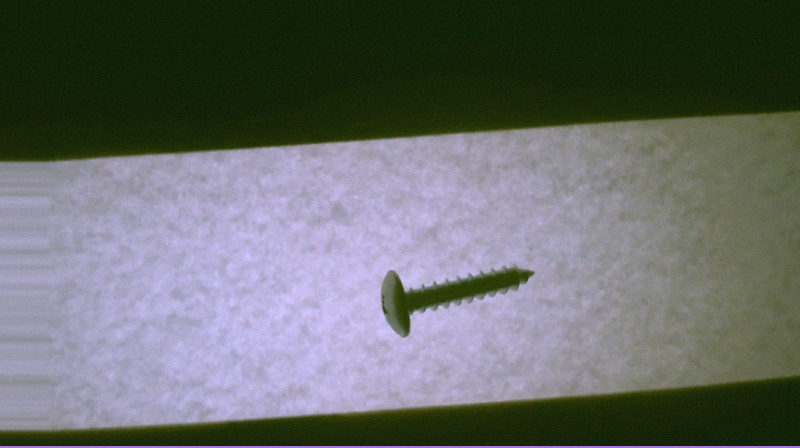S003: (377, 259, 537, 339)
